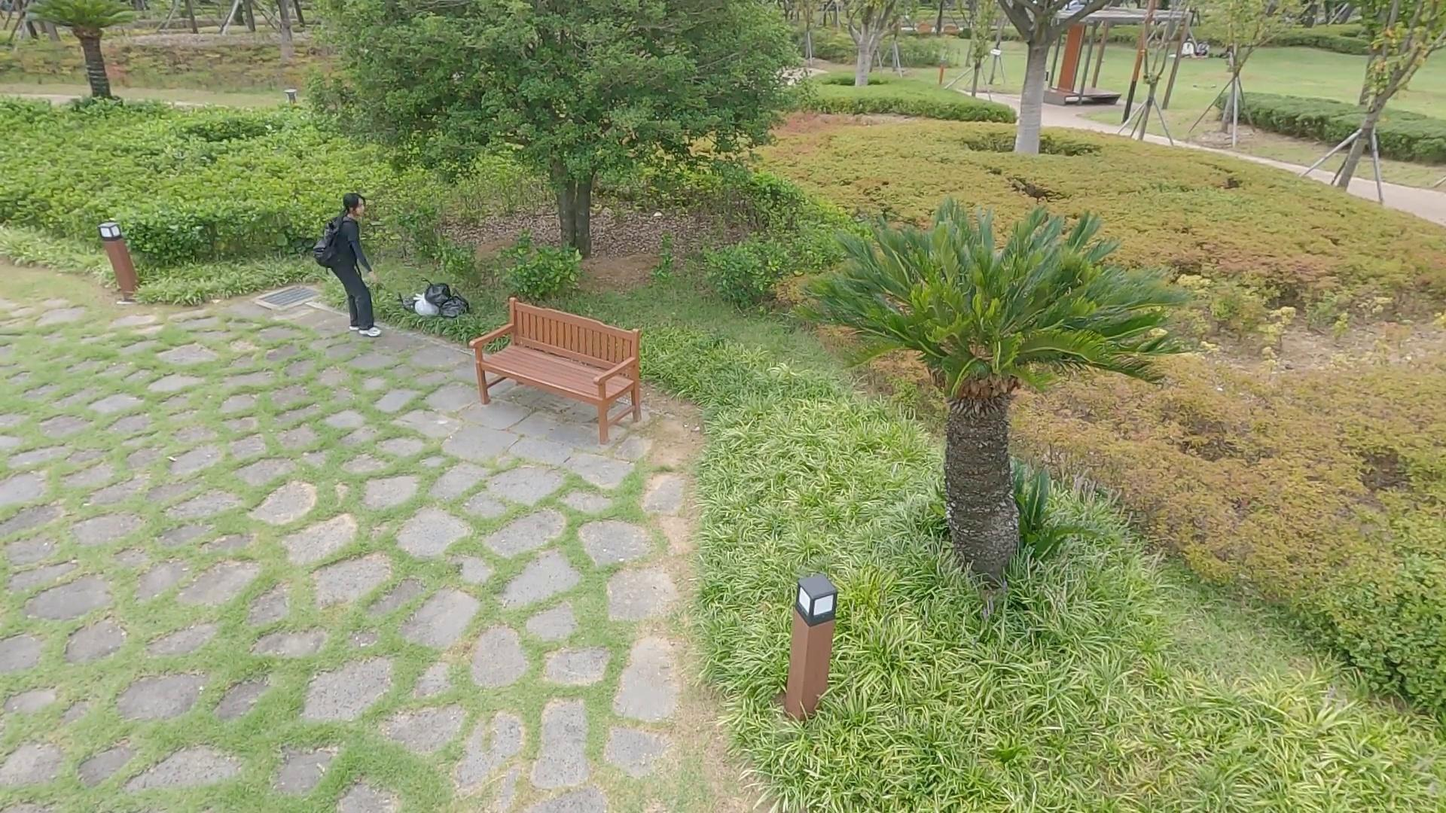person: (313, 190, 385, 337)
trash: (437, 288, 476, 325), (420, 273, 458, 307), (412, 292, 440, 321)
